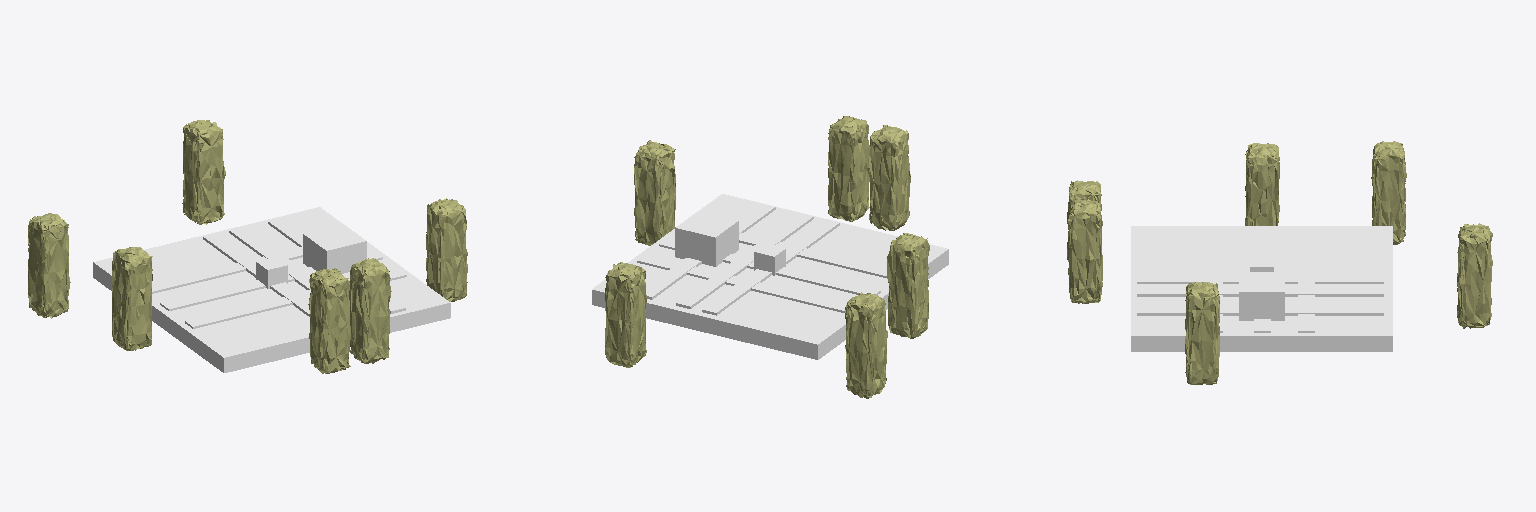
File: scenesimple2.obj
3 renders of one model, left to right at view 1: azimuth 30°, elevation 25°; view 2: azimuth 150°, elevation 25°; view 3: azimuth 270°, elevation 25°, orthographic.
Visible parts, largest first — view 1: cube9, cube4_copy6, cube4_copy5, cube4_copy8, cube4, cube4_copy9, cube4_copy7, cube8_copy9, cube10_copy13, cube10, cube10_copy12, cube10_copy11 (+3 smaller); view 2: cube9, cube4_copy9, cube4, cube4_copy6, cube4_copy5, cube4_copy8, cube4_copy7, cube8_copy9, cube10_copy14, cube10_copy13, cube10_copy11, cube10_copy15 (+3 smaller); view 3: cube9, cube4_copy6, cube4_copy7, cube4_copy9, cube4_copy5, cube4, cube8_copy9, cube10_copy13, cube10_copy14, cube10_copy15, cube10_copy11, cube10 (+2 smaller).
Part boxes in pixels (x1,y1,x2,y2): cube9: (93, 207, 450, 372); cube4_copy6: (182, 120, 225, 224); cube4_copy5: (28, 213, 70, 318); cube4_copy8: (308, 268, 350, 373); cube4: (112, 247, 152, 350); cube4_copy9: (349, 258, 391, 363); cube4_copy7: (426, 198, 467, 301); cube8_copy9: (303, 224, 366, 273); cube10_copy13: (203, 233, 309, 316); cube10: (185, 269, 406, 328); cube10_copy12: (160, 251, 382, 310); cube10_copy11: (152, 247, 302, 293); cube9: (592, 194, 948, 359); cube4_copy9: (828, 116, 869, 221); cube4: (887, 233, 929, 338); cube4_copy6: (605, 262, 646, 367); cube4_copy5: (845, 292, 887, 398); cube4_copy8: (869, 125, 910, 230); cube4_copy7: (634, 140, 675, 245); cube8_copy9: (675, 211, 738, 266); cube10_copy14: (676, 213, 813, 308); cube10_copy13: (702, 219, 839, 315); cube10_copy11: (637, 254, 846, 312); cube10_copy15: (646, 203, 775, 299); cube9: (1131, 226, 1392, 351); cube4_copy6: (1457, 223, 1492, 328); cube4_copy7: (1185, 282, 1219, 384); cube4_copy9: (1068, 199, 1102, 303); cube4_copy5: (1371, 141, 1406, 244); cube4: (1245, 143, 1279, 225); cube8_copy9: (1239, 272, 1284, 320); cube10_copy13: (1137, 274, 1383, 283); cube10_copy14: (1137, 287, 1383, 296); cube10_copy15: (1137, 306, 1383, 315); cube10_copy11: (1298, 226, 1314, 332); cube10: (1206, 226, 1222, 332).
Bounding box in the file's own units: 45.15 × 15.63 × 49.63.